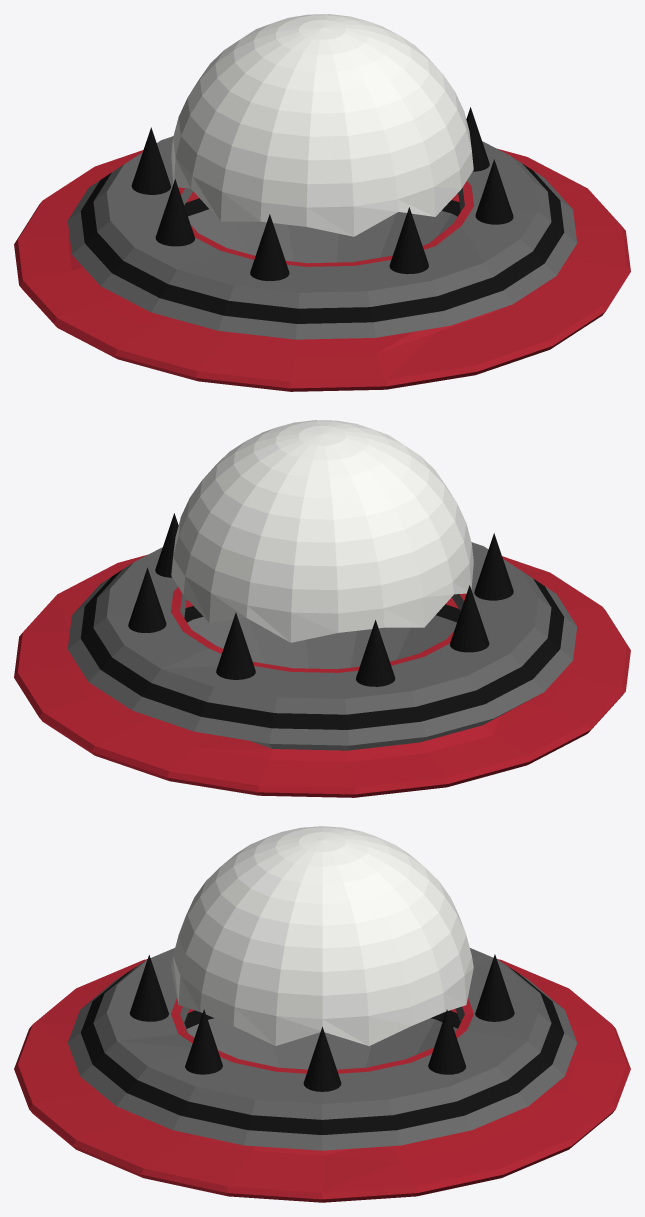
File: sol6_t02.glb
3 renders of one model, top to bottom at view 1: azimuth 30°, elevation 25°; view 2: azimuth 150°, elevation 25°; view 3: azimuth 270°, elevation 25°, orthographic.
Parts seen in each view (by area): view 1: slot_anchor_saucer, parachute_canopy; view 2: slot_anchor_saucer, parachute_canopy; view 3: slot_anchor_saucer, parachute_canopy.
Boxes of the visible parts, x1,y1,x2,y2 form: slot_anchor_saucer: (14,107,630,391); parachute_canopy: (171,14,473,236); slot_anchor_saucer: (14,513,630,797); parachute_canopy: (171,420,473,642); slot_anchor_saucer: (14,948,630,1202); parachute_canopy: (171,826,473,1045).
Size of the model in its own units: 2 by 1.16 by 2.
2 materials, 1 textured.
